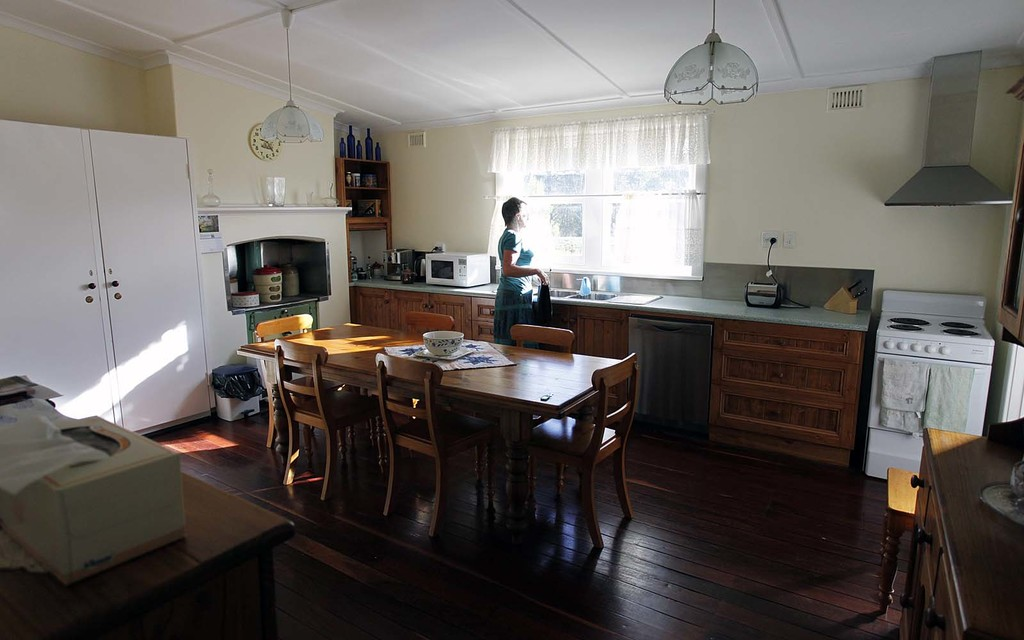Cabinetry: (703, 333, 862, 472)
